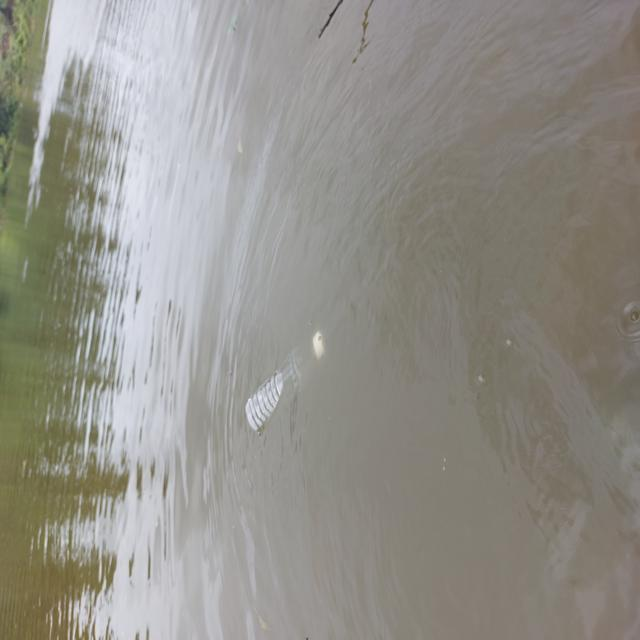waterbottle: (248, 332, 341, 445)
